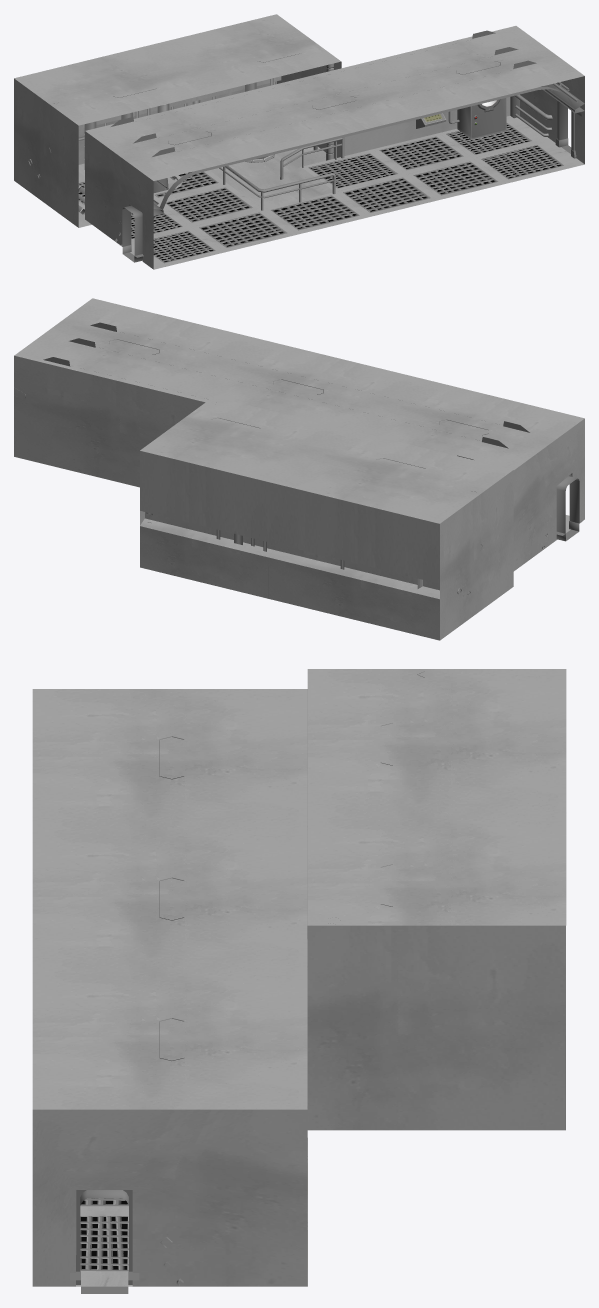
Rendered from MSH_Fusion_reactor_room_L1_R3_optimized.fbx.
The picture shows the model from 3 angles, top to bottom: view 1: azimuth 30°, elevation 25°; view 2: azimuth 150°, elevation 25°; view 3: azimuth 270°, elevation 25°; orthographic projection. The views are drawn at different scales.
Parts seen in each view (by area): view 1: lightmap1, lightmap0, lightmap-1; view 2: lightmap1, lightmap0, lightmap-1; view 3: lightmap1, lightmap-1.
Part boxes in pixels (x1,y1,x2,y2): lightmap1: (14, 14, 584, 269); lightmap0: (28, 30, 584, 241); lightmap-1: (122, 102, 571, 262); lightmap1: (14, 298, 584, 640); lightmap0: (25, 322, 547, 595); lightmap-1: (556, 476, 579, 541); lightmap1: (32, 669, 566, 1286); lightmap-1: (80, 1190, 128, 1293).
Size of the model in its own units: 30.91 by 6.86 by 16.03.
Materials: 4 (3 with a texture image).
